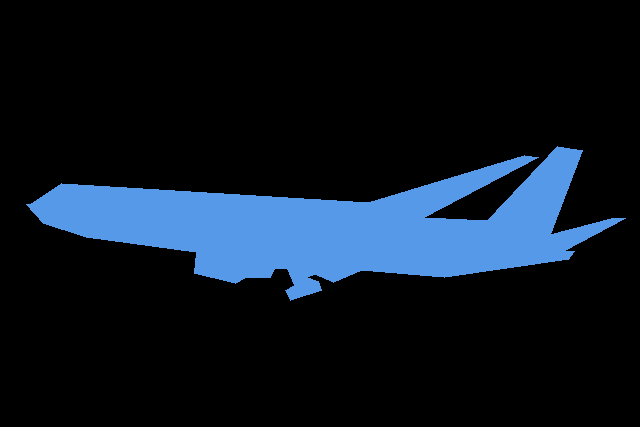Airplane: (26, 146, 625, 300)
